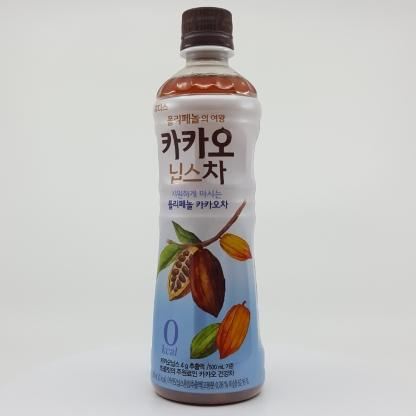------500ML: (151, 7, 265, 404)
